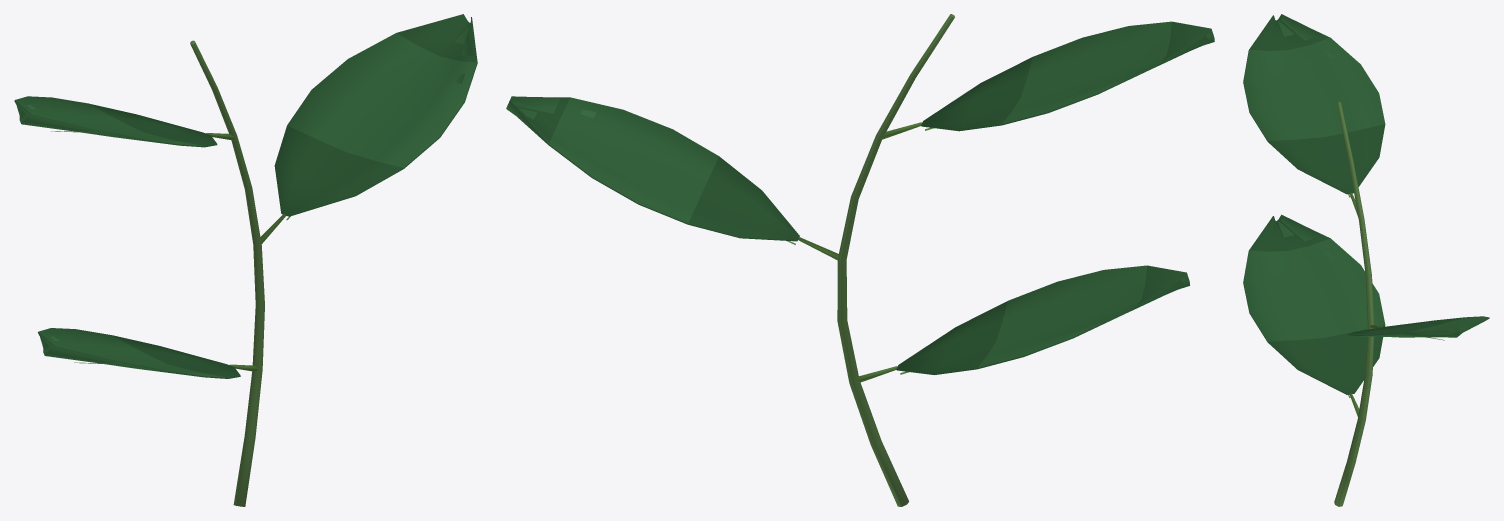
File: garden-orchid-bloom-stem-3.glb
3 views of the same model, side by side, from view 1: azimuth 30°, elevation 25°; view 2: azimuth 150°, elevation 25°; view 3: azimuth 270°, elevation 25° (orthographic). The views are drawn at different scales.
Visible parts, largest first — view 1: orchid-bloom-stem-3; view 2: orchid-bloom-stem-3; view 3: orchid-bloom-stem-3.
Part boxes in pixels (box(x1,y1,x2,y2)): orchid-bloom-stem-3: box(14, 14, 477, 506); orchid-bloom-stem-3: box(506, 14, 1214, 506); orchid-bloom-stem-3: box(1243, 14, 1489, 506).
Bounding box in the file's own units: 0.7423 × 0.6126 × 0.3506.
